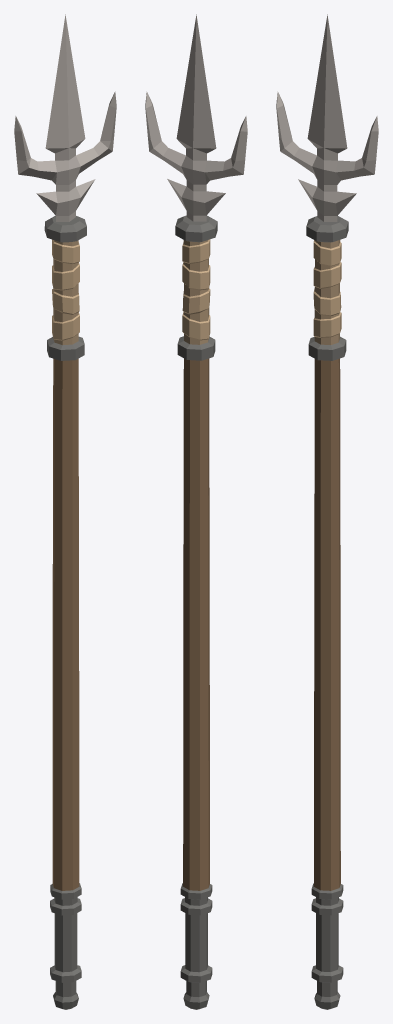
The model's file is SM_pwe_fantasy_spear_03.fbx.
The picture shows the model from 3 angles, left to right: view 1: azimuth 30°, elevation 25°; view 2: azimuth 150°, elevation 25°; view 3: azimuth 330°, elevation 25°; orthographic projection.
Parts seen in each view (by area): view 1: SM_pwe_fantasy_spear_03; view 2: SM_pwe_fantasy_spear_03; view 3: SM_pwe_fantasy_spear_03.
Part boxes in pixels (x1,y1,x2,y2): SM_pwe_fantasy_spear_03: (14, 14, 116, 1009); SM_pwe_fantasy_spear_03: (145, 14, 247, 1009); SM_pwe_fantasy_spear_03: (276, 14, 378, 1009).
Bounding box in the file's own units: 19.38 × 180 × 7.15.
